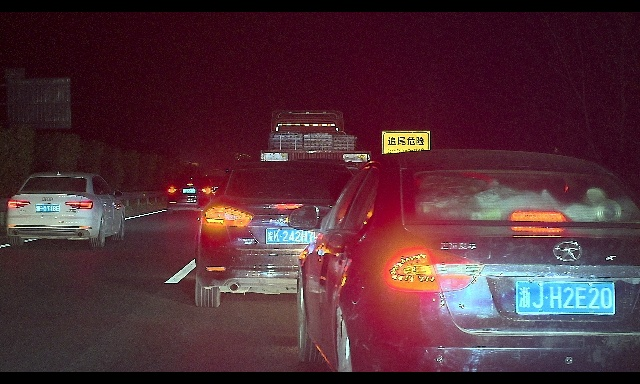car: (287, 150, 640, 372), (195, 160, 363, 307), (7, 170, 126, 248), (165, 175, 218, 215)
truck: (260, 108, 371, 226)
